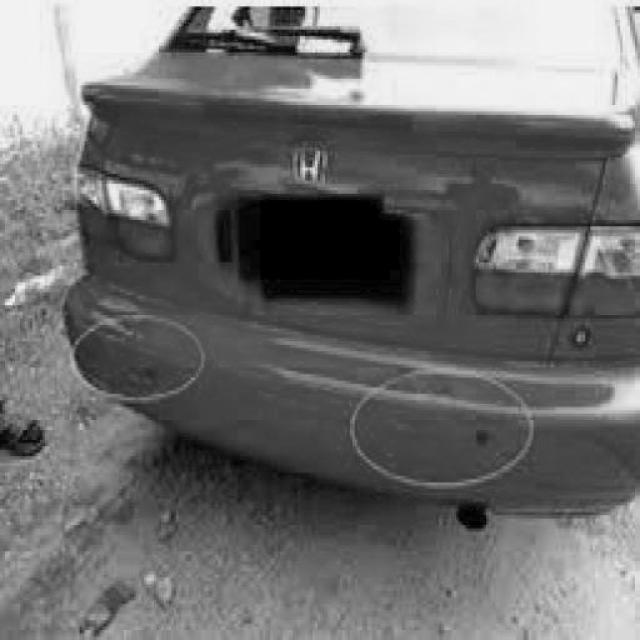car damage: (353, 372, 535, 488), (77, 312, 204, 417)
